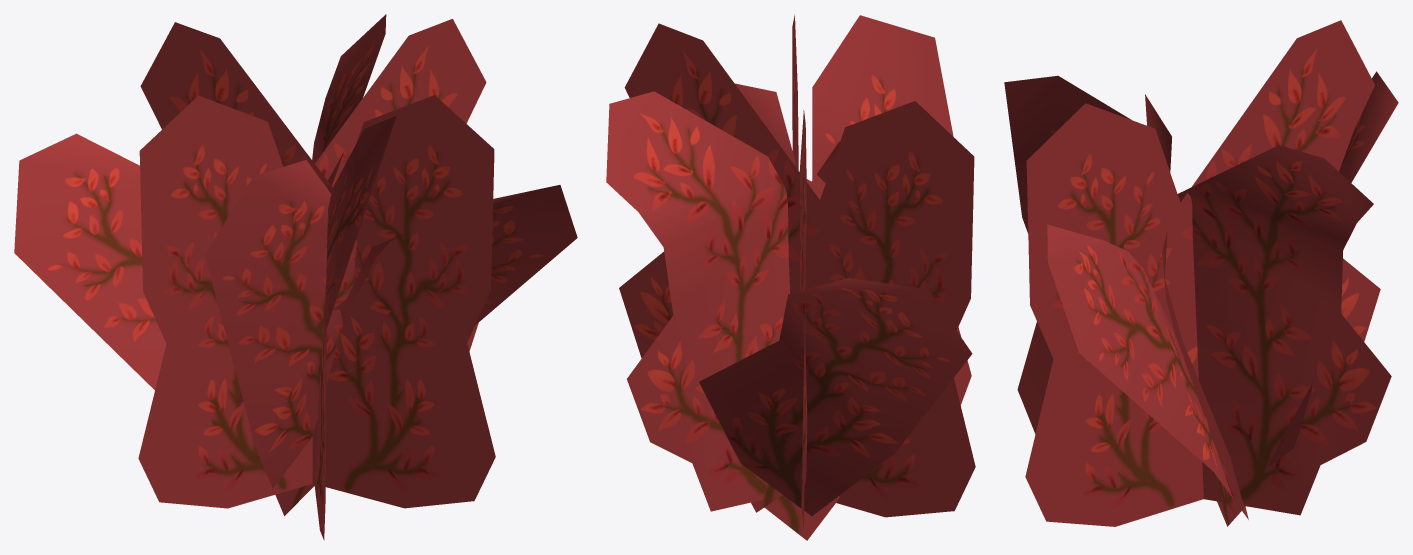
File: bush_v2.fbx
3 renders of one model, left to right at view 1: azimuth 30°, elevation 25°; view 2: azimuth 150°, elevation 25°; view 3: azimuth 270°, elevation 25°, orthographic. The views are drawn at different scales.
Visible parts, largest first — view 1: bush_leaves_v2; view 2: bush_leaves_v2; view 3: bush_leaves_v2.
Boxes of the visible parts, left/top/right/bottom form: bush_leaves_v2: left=14, top=14, right=577, bottom=540; bush_leaves_v2: left=606, top=14, right=975, bottom=540; bush_leaves_v2: left=1004, top=20, right=1398, bottom=526.
Size of the model in its own units: 103 by 105 by 78.38.
